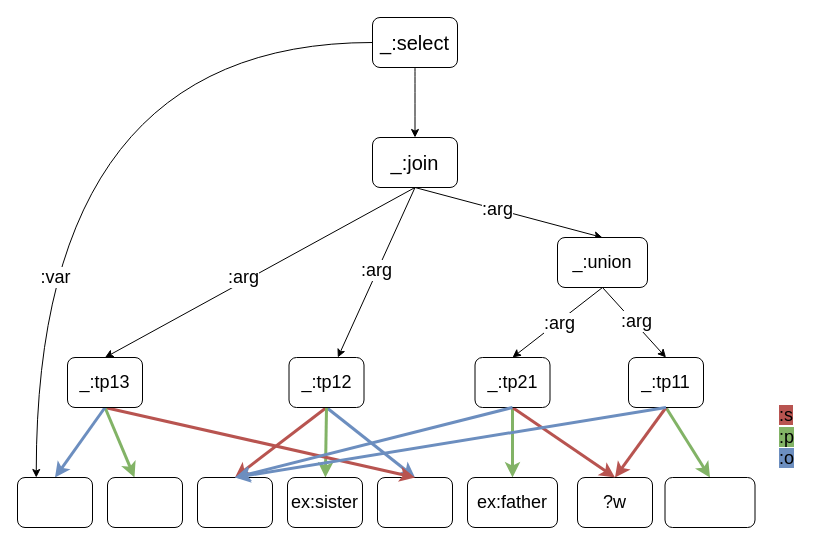
Image size: 835x545. Some labels were removed from this diagram. Here are the shapes that lost their labels. From the top down, the box of each, then its label:
(16, 476, 92, 528): ?z
(106, 476, 182, 528): ex:name
(196, 476, 272, 528): ?x
(376, 476, 452, 528): ?y
(664, 476, 755, 528): ex:mother
